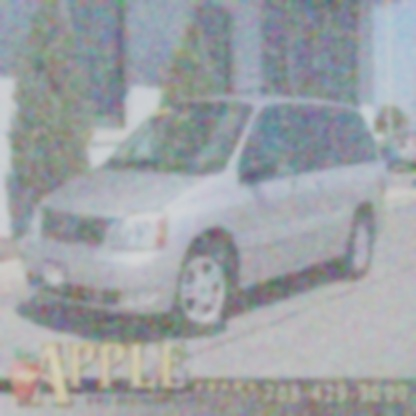Vehicle: (16, 88, 392, 341)
